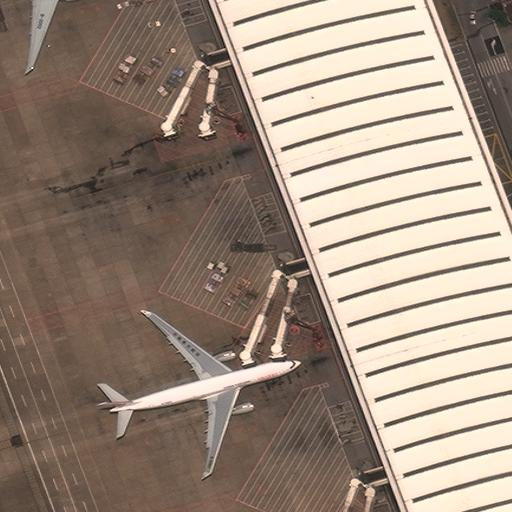Large Civil Transport: (95, 311, 301, 474), (0, 0, 98, 69)
